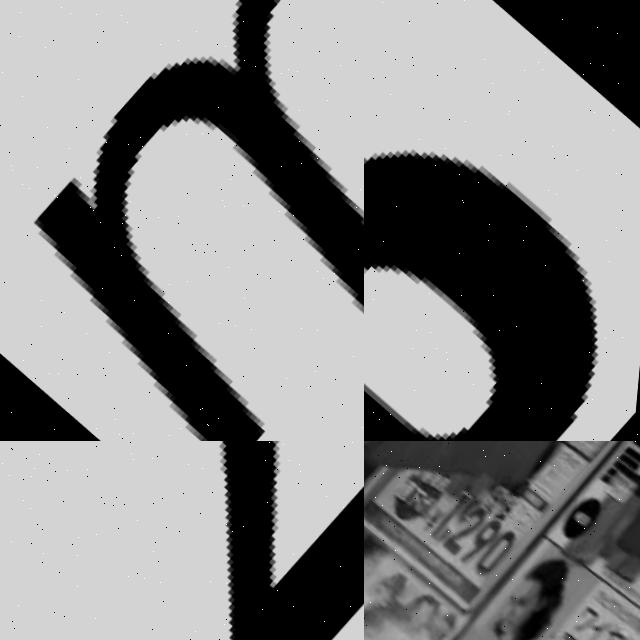2: (0, 441, 364, 640)
B: (364, 154, 606, 441)
J: (544, 446, 640, 640)
M: (0, 0, 364, 441)
V: (364, 441, 611, 549)
